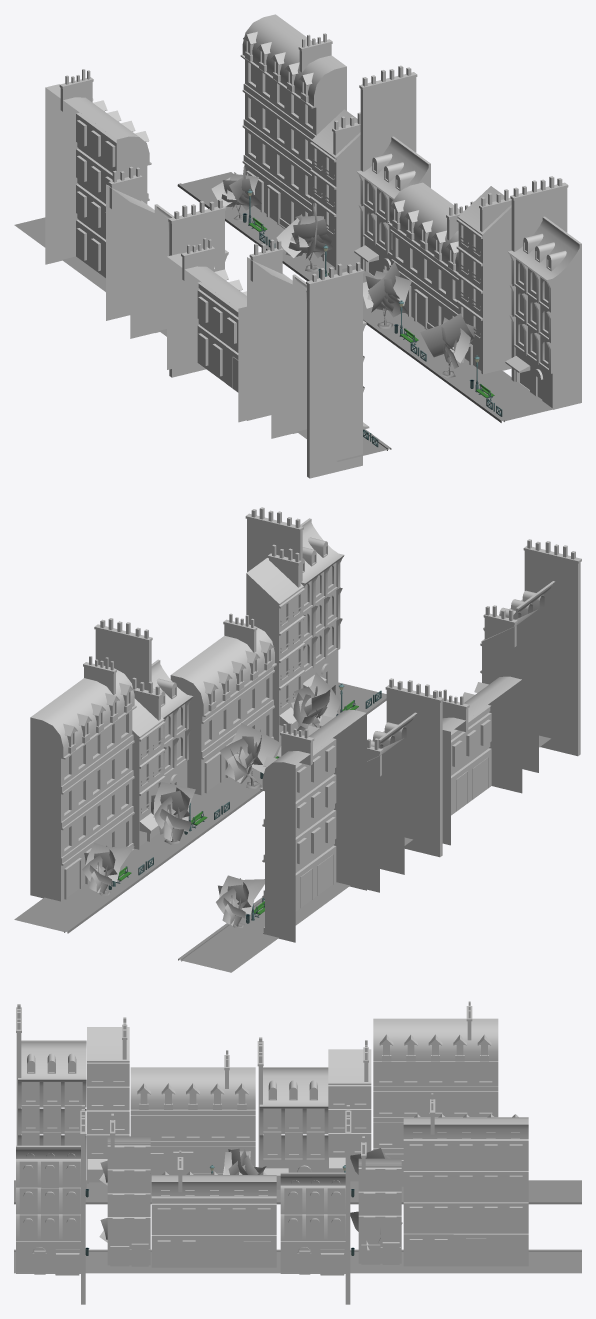
Rendered from Chunk02_Decor_Night.fbx.
3 renders of one model, top to bottom at view 1: azimuth 30°, elevation 25°; view 2: azimuth 150°, elevation 25°; view 3: azimuth 270°, elevation 25°, orthographic. The views are drawn at different scales.
Parts seen in each view (by area): view 1: Chunk_02_buildings_night; view 2: Chunk_02_buildings_night; view 3: Chunk_02_buildings_night.
Boxes of the visible parts, x1,y1,x2,y2 form: Chunk_02_buildings_night: (14, 14, 581, 478); Chunk_02_buildings_night: (14, 507, 581, 972); Chunk_02_buildings_night: (14, 1001, 581, 1304).
Bounding box in the file's own units: 13469 × 9037 × 25000.
